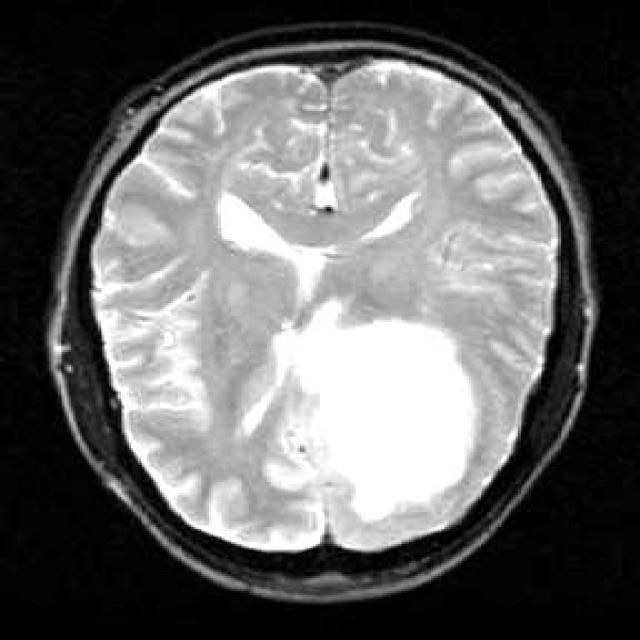Tumor: (238, 303, 488, 521), (199, 172, 444, 302)
